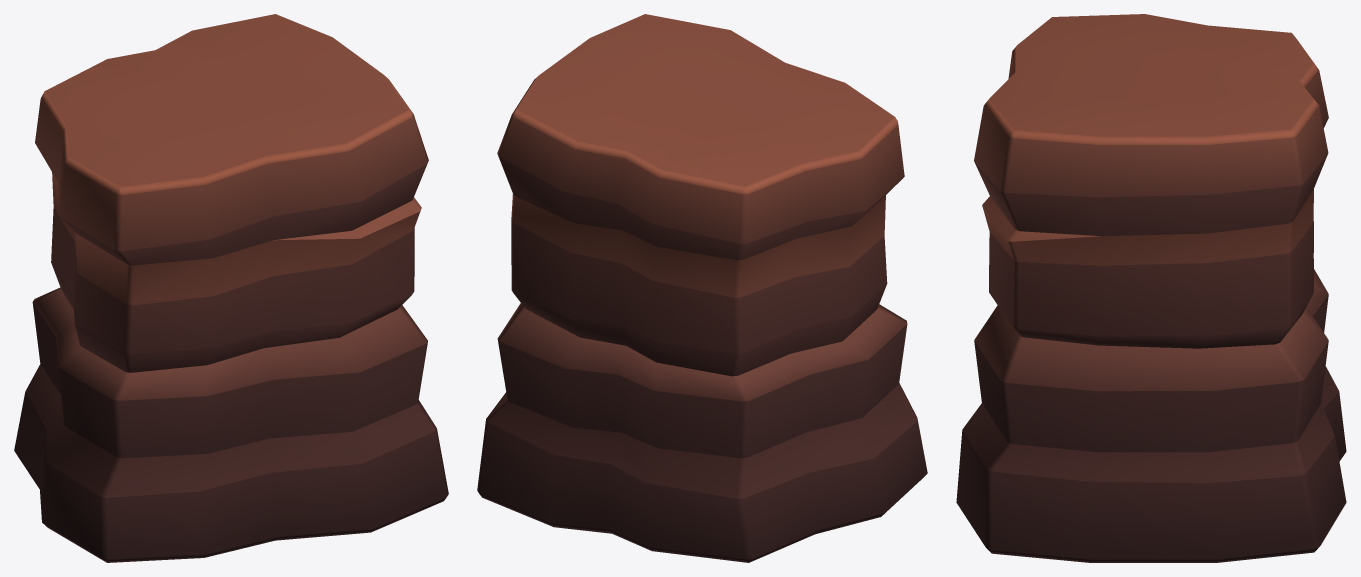
Rendered from rock_formation_04.fbx.
The picture shows the model from 3 angles, left to right: view 1: azimuth 30°, elevation 25°; view 2: azimuth 150°, elevation 25°; view 3: azimuth 270°, elevation 25°; orthographic projection. The views are drawn at different scales.
Visible parts, largest first — view 1: rock_formation_04; view 2: rock_formation_04; view 3: rock_formation_04.
Boxes of the visible parts, left/top/right/bottom form: rock_formation_04: left=14, top=14, right=448, bottom=562; rock_formation_04: left=477, top=14, right=927, bottom=562; rock_formation_04: left=956, top=14, right=1346, bottom=562.
Bounding box in the file's own units: 737 × 782 × 670.
